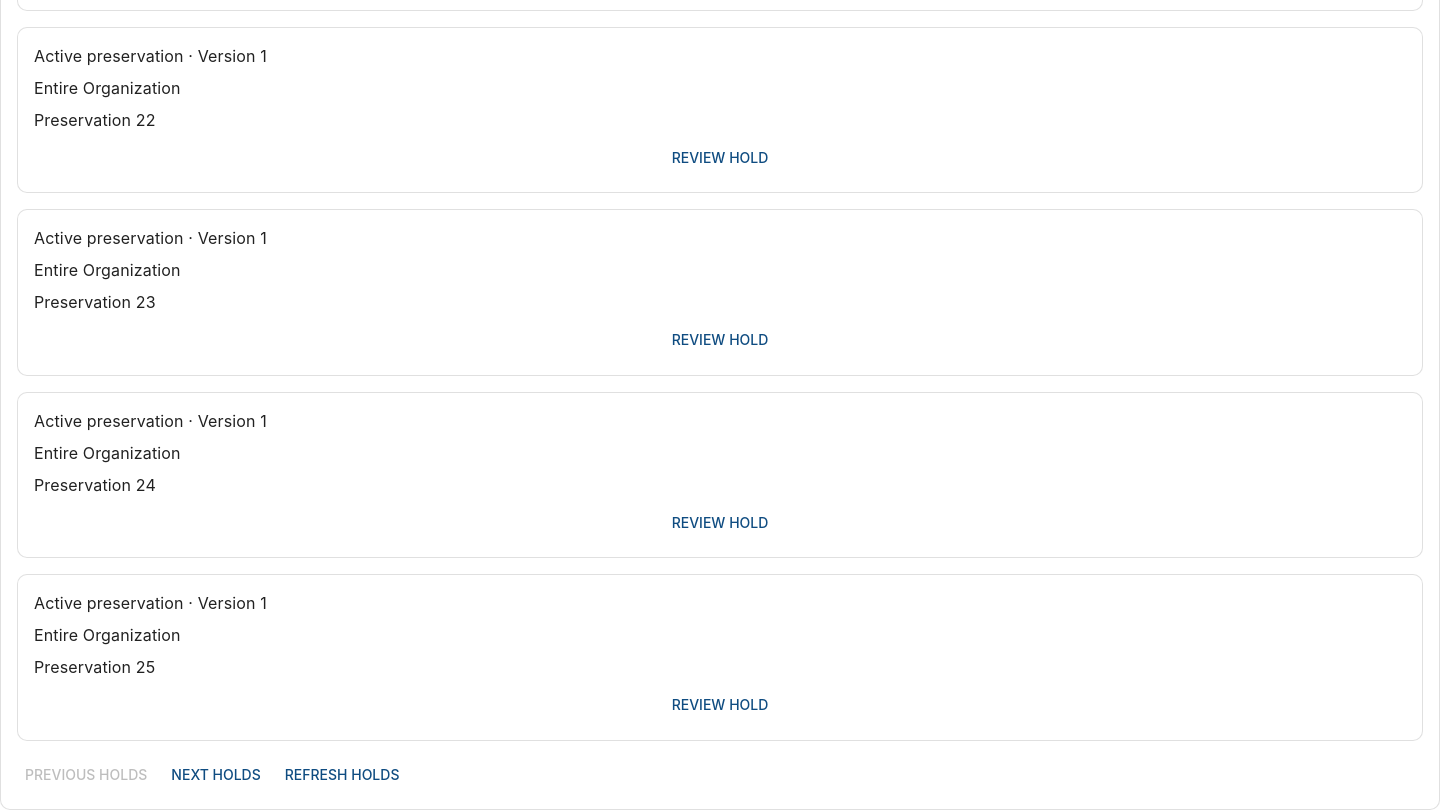
withdraws all private rows on definitive authority loss
(page scrolled)
Expected: the text "Preservation 25" is shown, [34,657,155,677]
Click the button "Refresh holds".
click(342, 775)  # box [277,756,407,793]
(page scrolled)
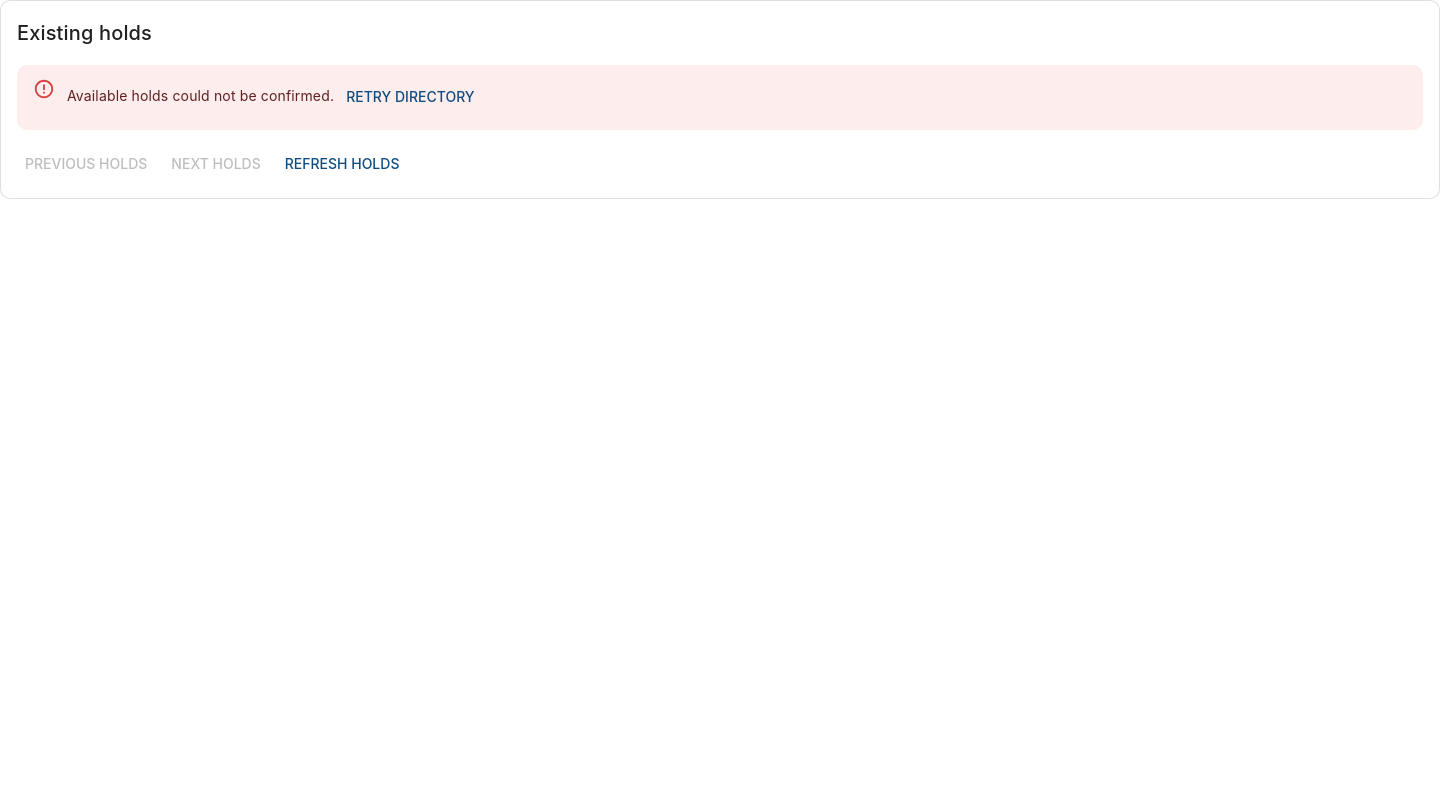
Expected: the text "Preservation 25" is gone
